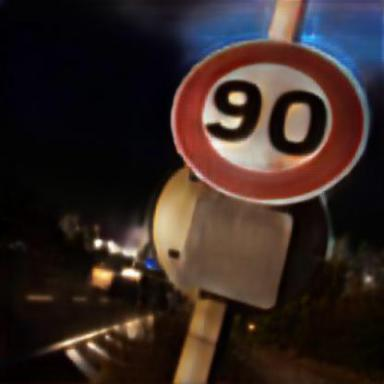Speed_limit_90: (176, 45, 362, 198)
